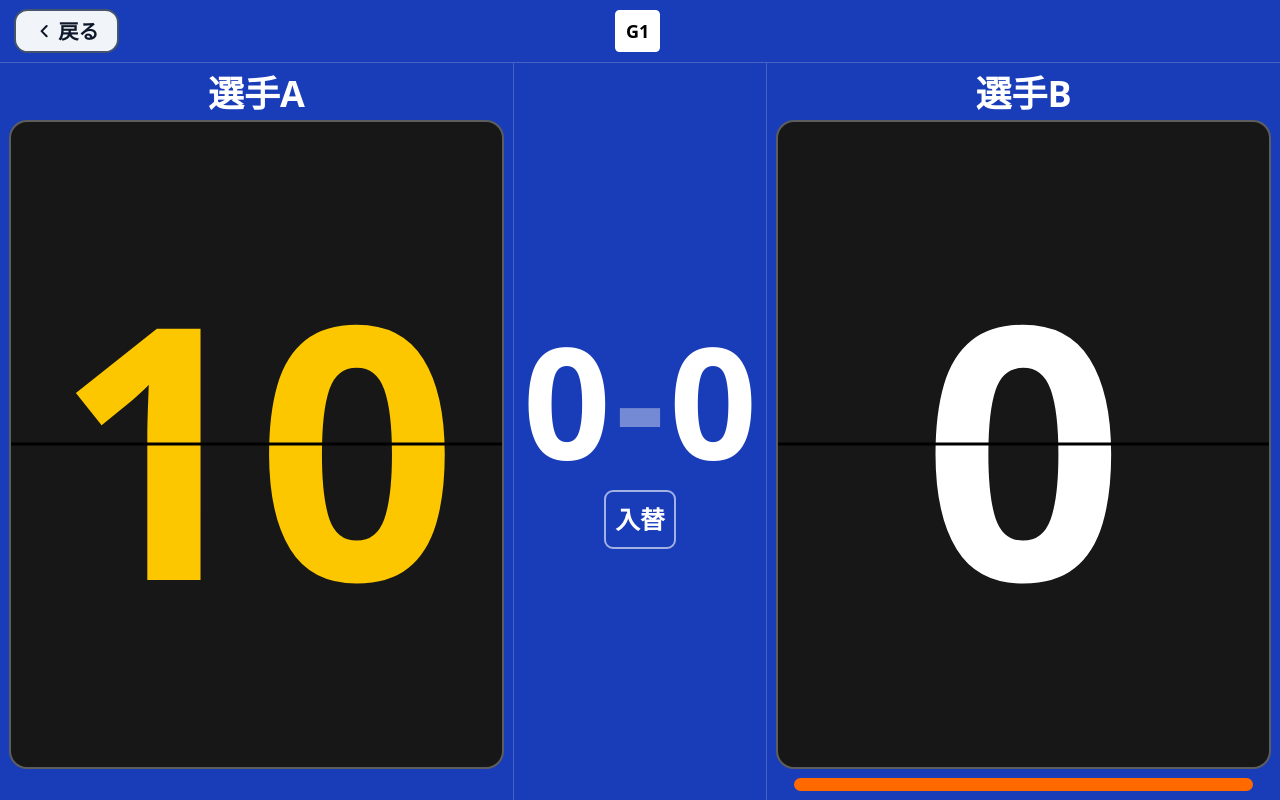
Test case: ScoreboardScreen › 10-0 → 左加点でゲーム勝者が決まり 結果を見るボタンが表示される
Click the button named "選手A を1増やす" at (256, 283), box top-left (11, 122), bottom-right (502, 444)
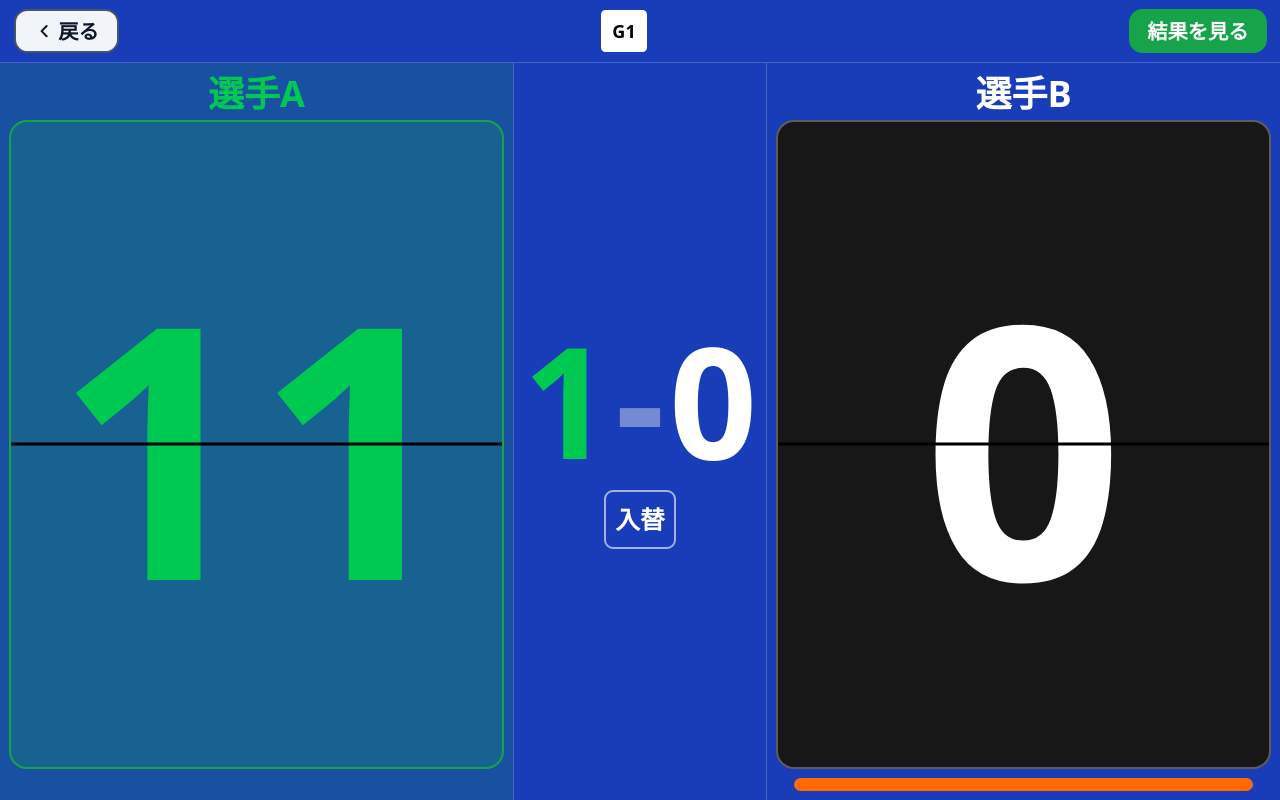
Result: the text "11" is shown at top-left (55, 268), bottom-right (458, 620)
Result: the button "結果を見る" is shown at top-left (1129, 9), bottom-right (1266, 53)
